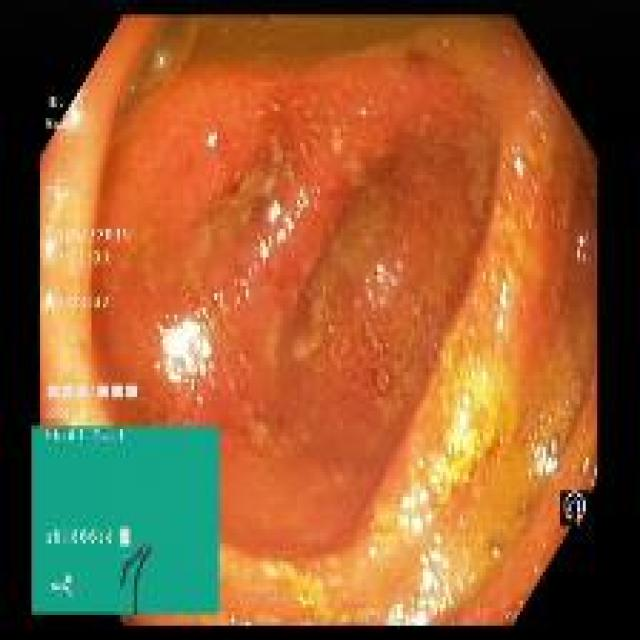ulcerative-colitis: (34, 17, 598, 624)
